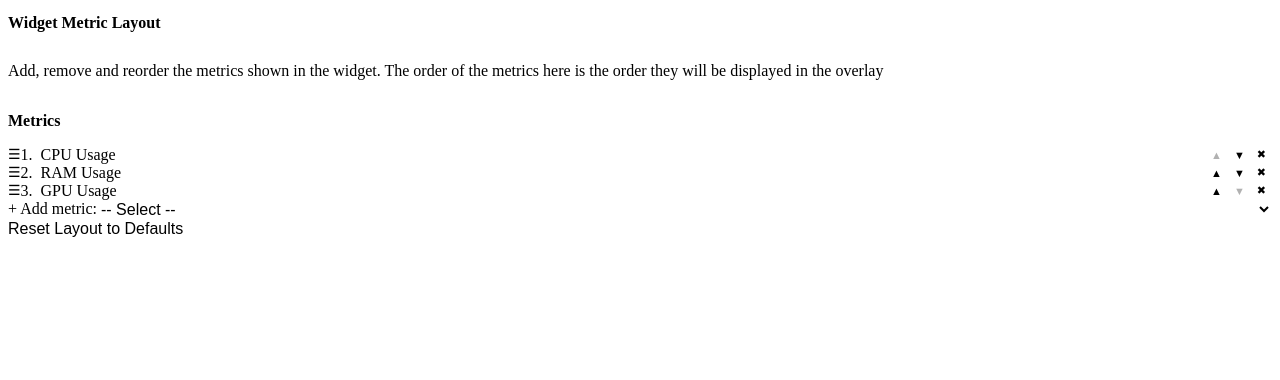
Test case: LayoutPage.svelte › resets layout to default metrics when reset button is clicked
Click the button with class "reset-btn" at (96, 228), box [8,220,183,238]
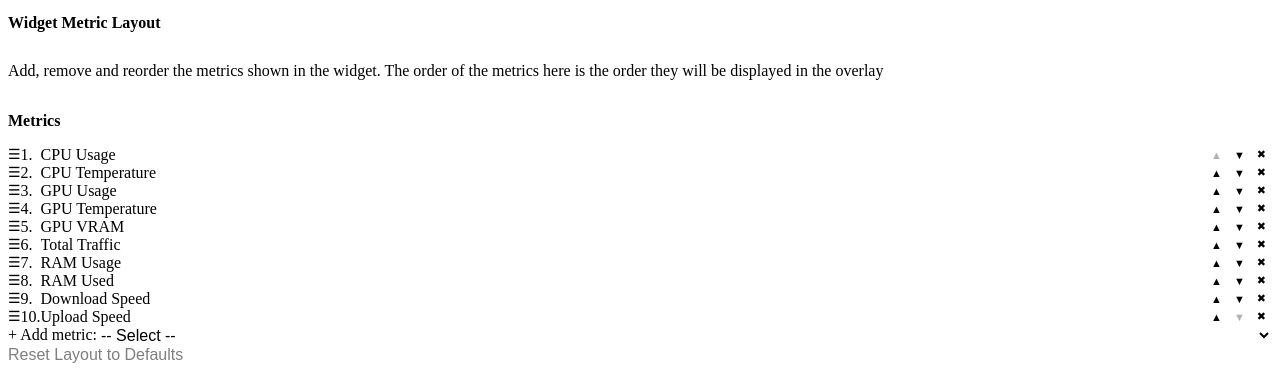
Now the number of elements with class "metric-name" is 10
